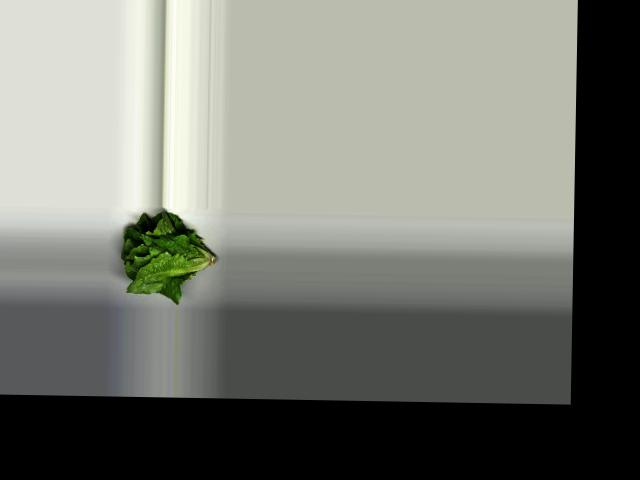lettuce: (119, 210, 219, 304)
